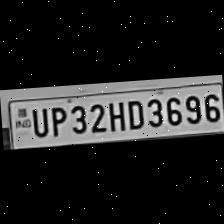2: (85, 99, 106, 134)
3: (65, 101, 86, 135), (142, 94, 162, 128)
6: (200, 88, 220, 124), (162, 93, 182, 127)
9: (180, 92, 202, 125)
D: (122, 96, 144, 130)
H: (103, 97, 125, 132)
P: (46, 102, 67, 138)
U: (27, 104, 48, 138)
